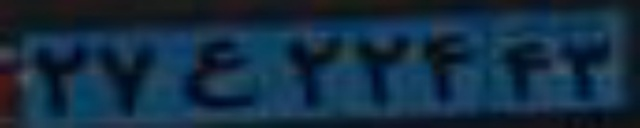2: (33, 43, 92, 117), (282, 33, 341, 107), (353, 31, 410, 104)
3: (562, 35, 614, 102)
4: (420, 30, 472, 103), (501, 40, 553, 101)
7: (97, 43, 158, 119)
ain: (173, 39, 260, 108)
